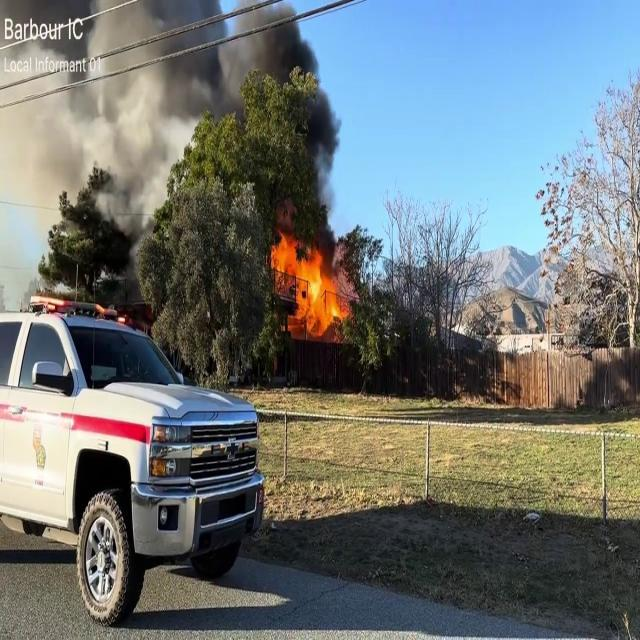Fire: (268, 228, 350, 338)
Smoke: (11, 0, 241, 237)
